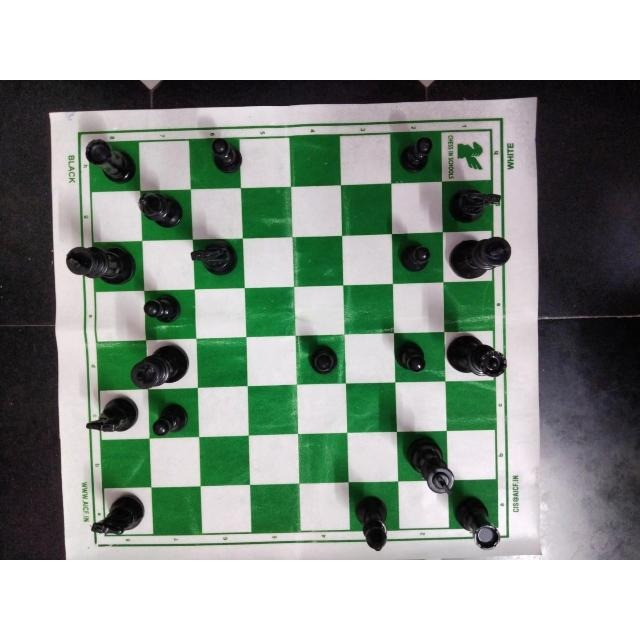black-bishop: (352, 491, 392, 553), (135, 192, 183, 232)
black-king: (61, 242, 139, 286), (447, 232, 513, 282), (404, 436, 456, 498), (129, 341, 190, 392)
black-knight: (89, 491, 149, 544), (447, 182, 505, 226), (85, 392, 140, 435), (188, 240, 238, 279)
black-pawn: (399, 128, 438, 178), (392, 334, 432, 378), (149, 400, 193, 439), (139, 290, 184, 328), (394, 237, 434, 279), (208, 134, 246, 174), (301, 341, 340, 379)
black-queen: (445, 330, 513, 380)
black-rook: (82, 136, 142, 184), (453, 495, 502, 550)
